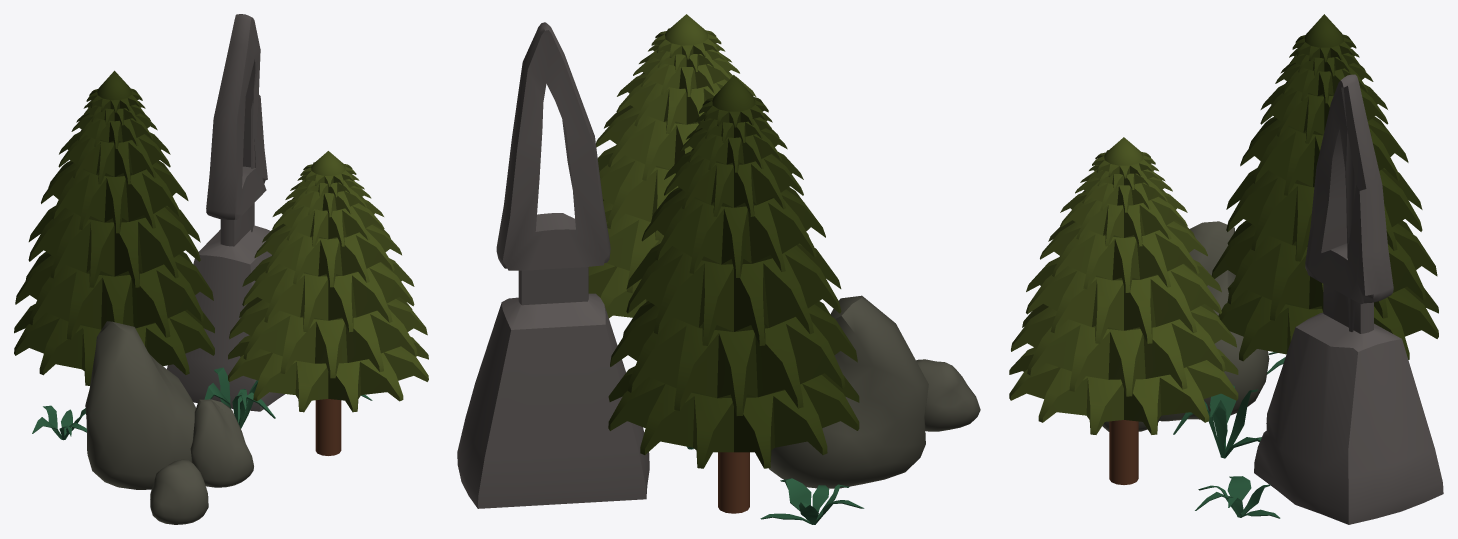
File: set_pineshrine_20210129.fbx
The picture shows the model from 3 angles, left to right: view 1: azimuth 30°, elevation 25°; view 2: azimuth 150°, elevation 25°; view 3: azimuth 270°, elevation 25°; orthographic projection. The views are drawn at different scales.
Visible parts, largest first — view 1: fern.007; view 2: fern.007; view 3: fern.007.
Part boxes in pixels (box(x1,y1,x2,y2)): fern.007: box(14, 14, 428, 524); fern.007: box(457, 14, 980, 524); fern.007: box(1009, 14, 1443, 524).
Size of the model in its own units: 2.11 by 2.39 by 2.23.
